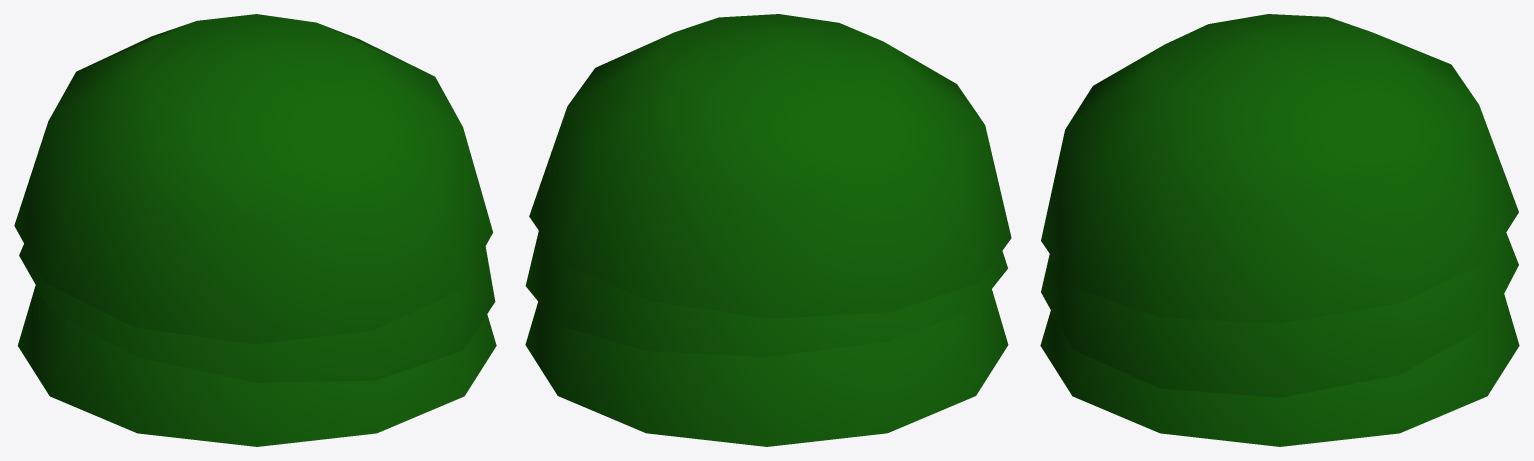
File: Cespuglio.FBX
3 renders of one model, left to right at view 1: azimuth 30°, elevation 25°; view 2: azimuth 150°, elevation 25°; view 3: azimuth 270°, elevation 25°, orthographic.
Parts seen in each view (by area): view 1: Sphere001; view 2: Sphere001; view 3: Sphere001.
Part boxes in pixels (x1=…): Sphere001: x1=14, y1=14, x2=496, y2=446; Sphere001: x1=525, y1=14, x2=1011, y2=446; Sphere001: x1=1040, y1=14, x2=1519, y2=446.
Bounding box in the file's own units: 40.33 × 27.71 × 40.
